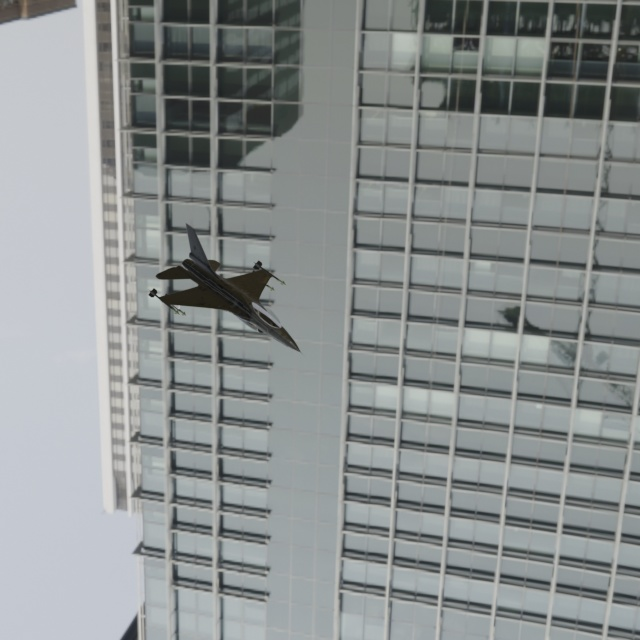model: (130, 211, 364, 384)
